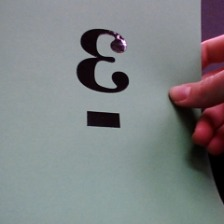green3: (75, 21, 134, 138)
